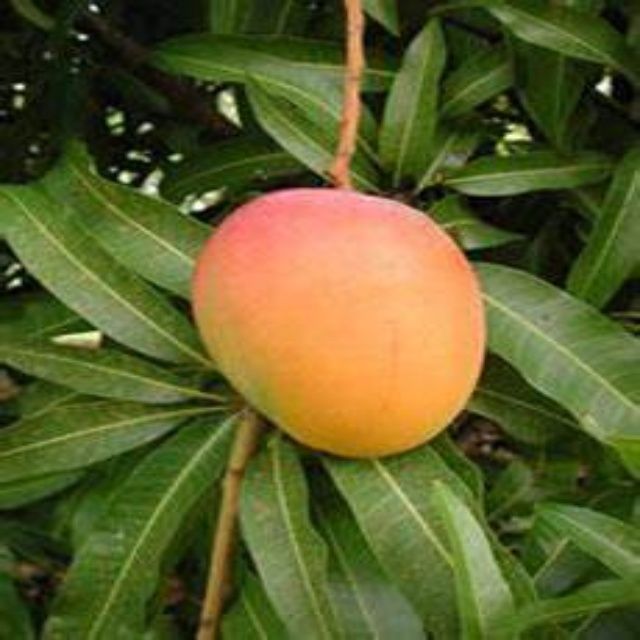mango: (196, 185, 489, 458)
